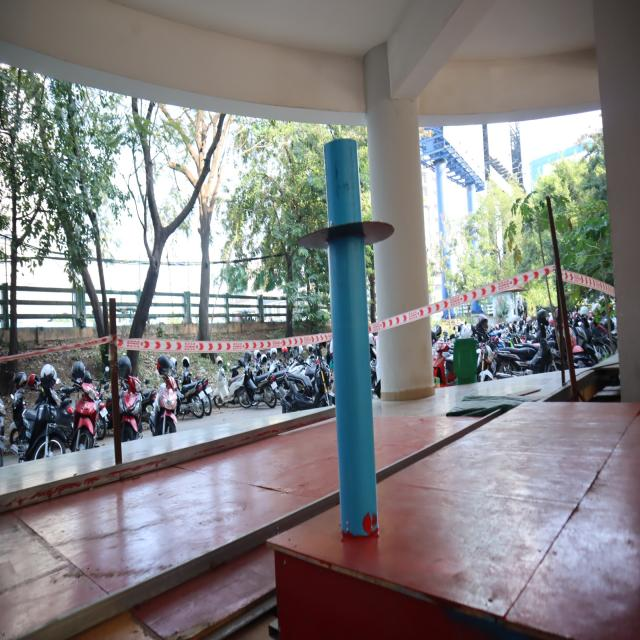pole: (292, 130, 402, 362)
